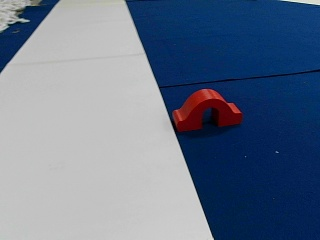bridge: (173, 89, 240, 129)
